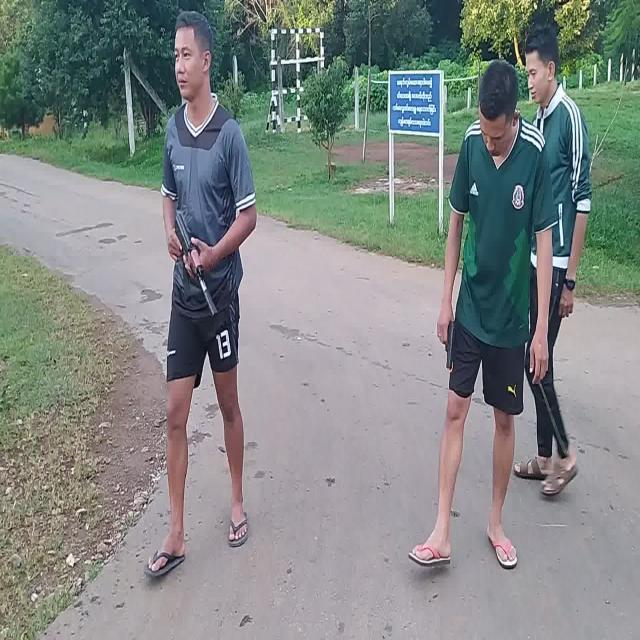gun: (176, 213, 218, 321), (447, 322, 455, 369)
